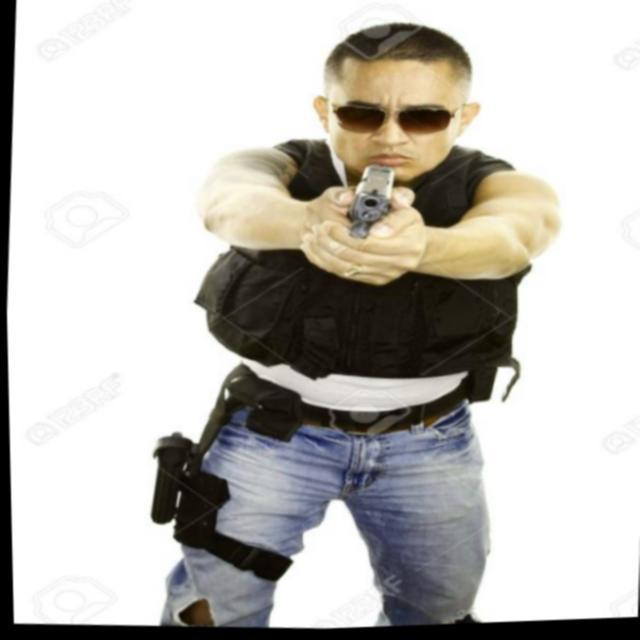weapon: (344, 164, 394, 243)
